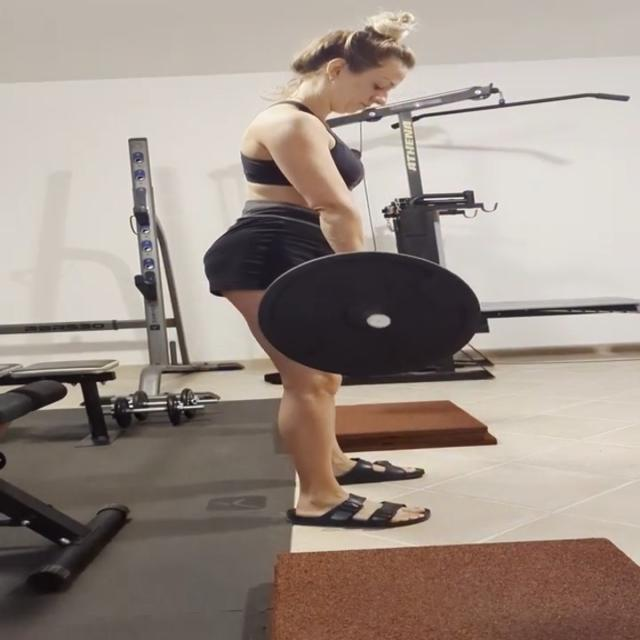barbell: (255, 249, 487, 380)
